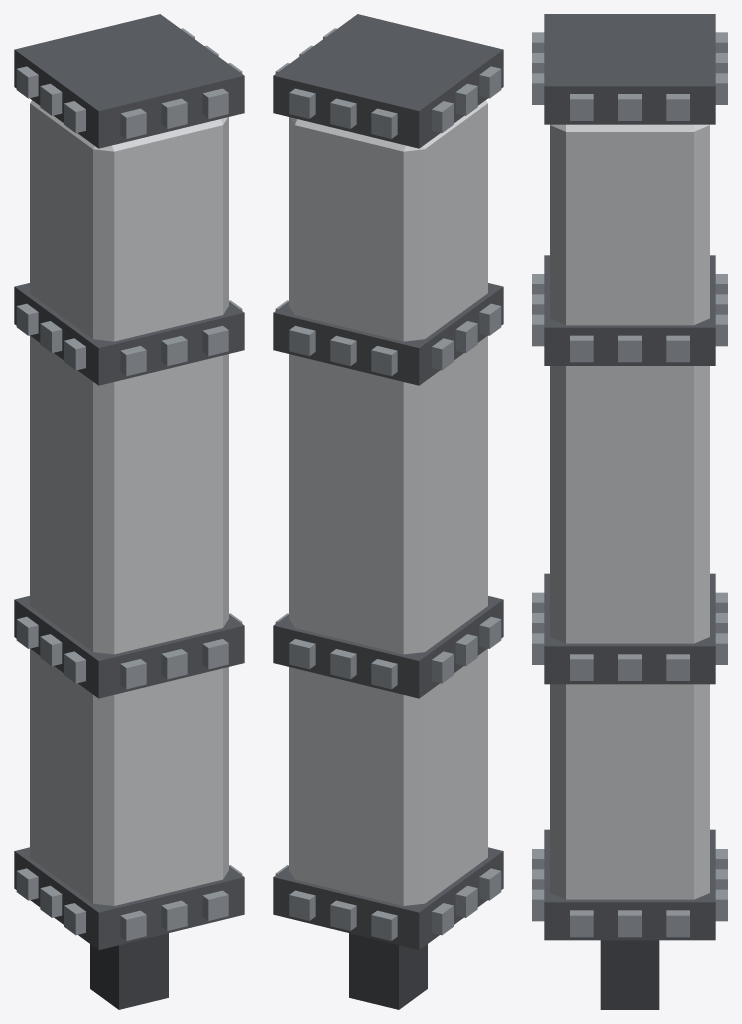
The model's file is SM_Obstacle_02_A_Pillar.fbx.
3 views of the same model, side by side, from view 1: azimuth 30°, elevation 25°; view 2: azimuth 150°, elevation 25°; view 3: azimuth 270°, elevation 25° (orthographic).
Parts seen in each view (by area): view 1: pCube795; view 2: pCube795; view 3: pCube795.
Part boxes in pixels (x1,y1,x2,y2): pCube795: (14,14,244,1009); pCube795: (273,14,503,1009); pCube795: (532,14,727,1009).
Size of the model in its own units: 33.91 by 181 by 33.91.
Materials: 1 (1 with a texture image).
